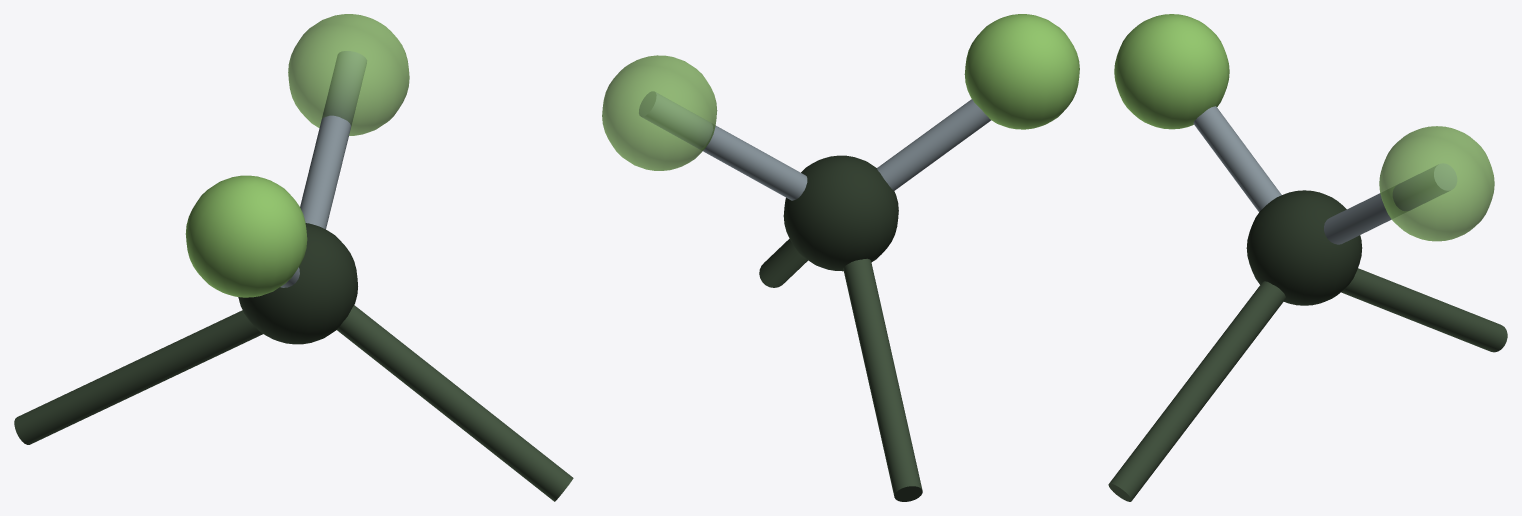
File: flourMedio.fbx
3 views of the same model, side by side, from view 1: azimuth 30°, elevation 25°; view 2: azimuth 150°, elevation 25°; view 3: azimuth 270°, elevation 25° (orthographic). The views are drawn at different scales.
Visible parts, largest first — view 1: monomeroAdicional2_enlaceHidrogeno11; view 2: monomeroAdicional2_enlaceHidrogeno11; view 3: monomeroAdicional2_enlaceHidrogeno11.
Boxes of the visible parts, box(x1,y1,x2,y2) form: monomeroAdicional2_enlaceHidrogeno11: box(14, 14, 573, 501); monomeroAdicional2_enlaceHidrogeno11: box(602, 14, 1079, 501); monomeroAdicional2_enlaceHidrogeno11: box(1108, 14, 1507, 501).
Size of the model in its own units: 1.04 by 1.03 by 1.05.
